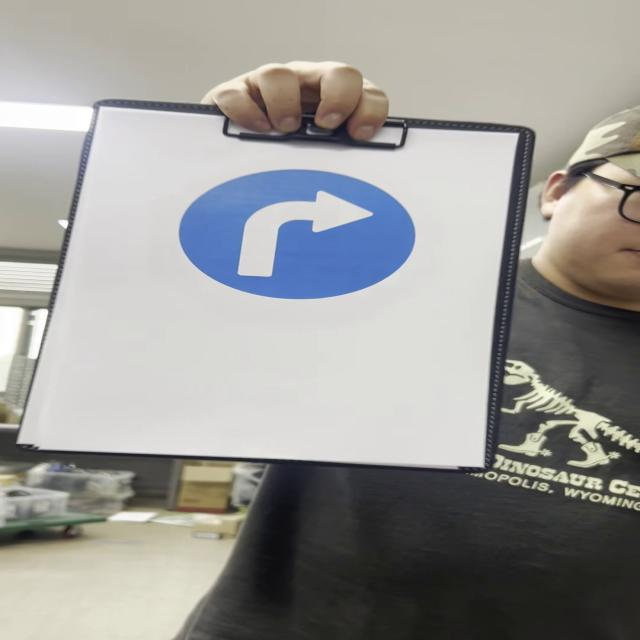right: (182, 173, 415, 302)
